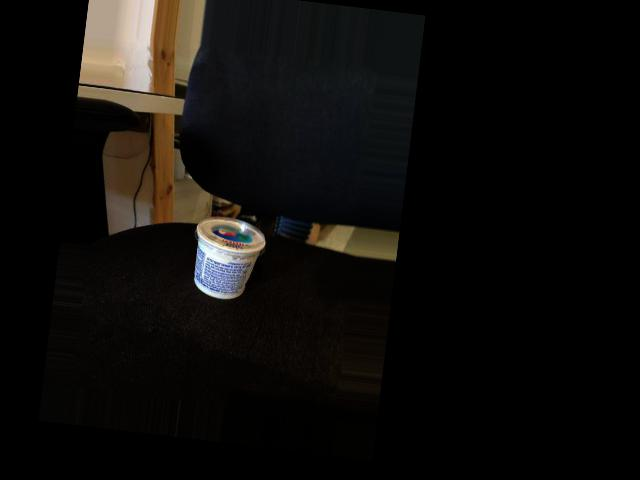cotage: (194, 208, 266, 303)
